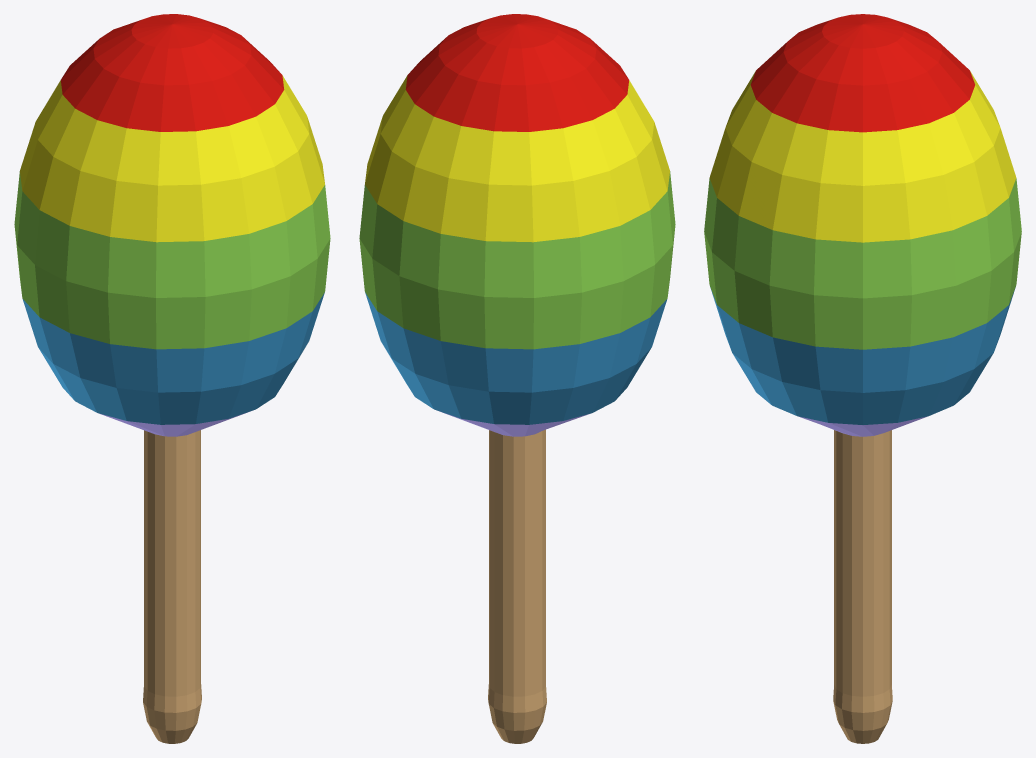
Rendered from Maracasselescouilles.fbx.
3 views of the same model, side by side, from view 1: azimuth 30°, elevation 25°; view 2: azimuth 150°, elevation 25°; view 3: azimuth 270°, elevation 25° (orthographic).
Parts seen in each view (by area): view 1: Cylinder.001; view 2: Cylinder.001; view 3: Cylinder.001.
Part boxes in pixels (x1,y1,x2,y2): Cylinder.001: [14, 14, 330, 743]; Cylinder.001: [359, 14, 675, 743]; Cylinder.001: [704, 14, 1021, 743].
Bounding box in the file's own units: 589 × 1468 × 589.
